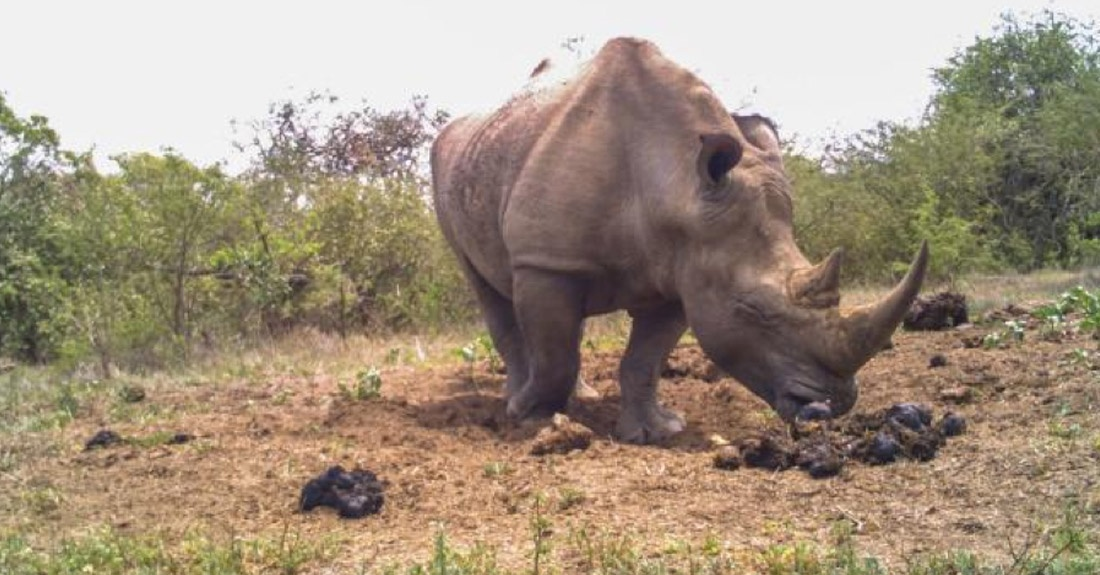rhino: (421, 34, 928, 442)
